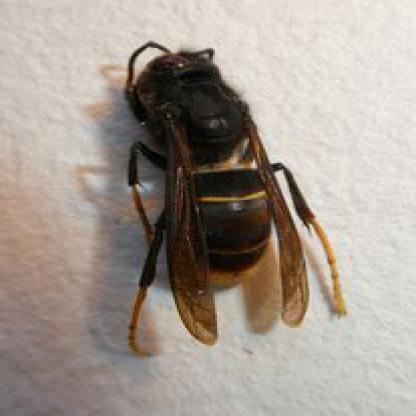Asian Hornet: (101, 40, 356, 354)
